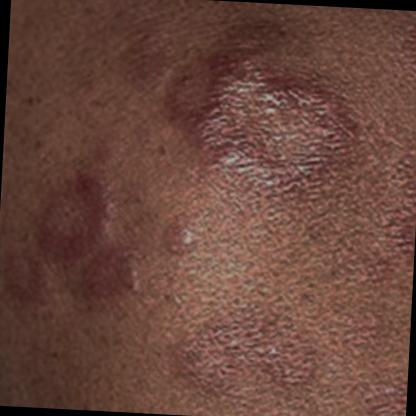Leprosy: (140, 24, 378, 202), (0, 163, 140, 329), (156, 294, 340, 412)
